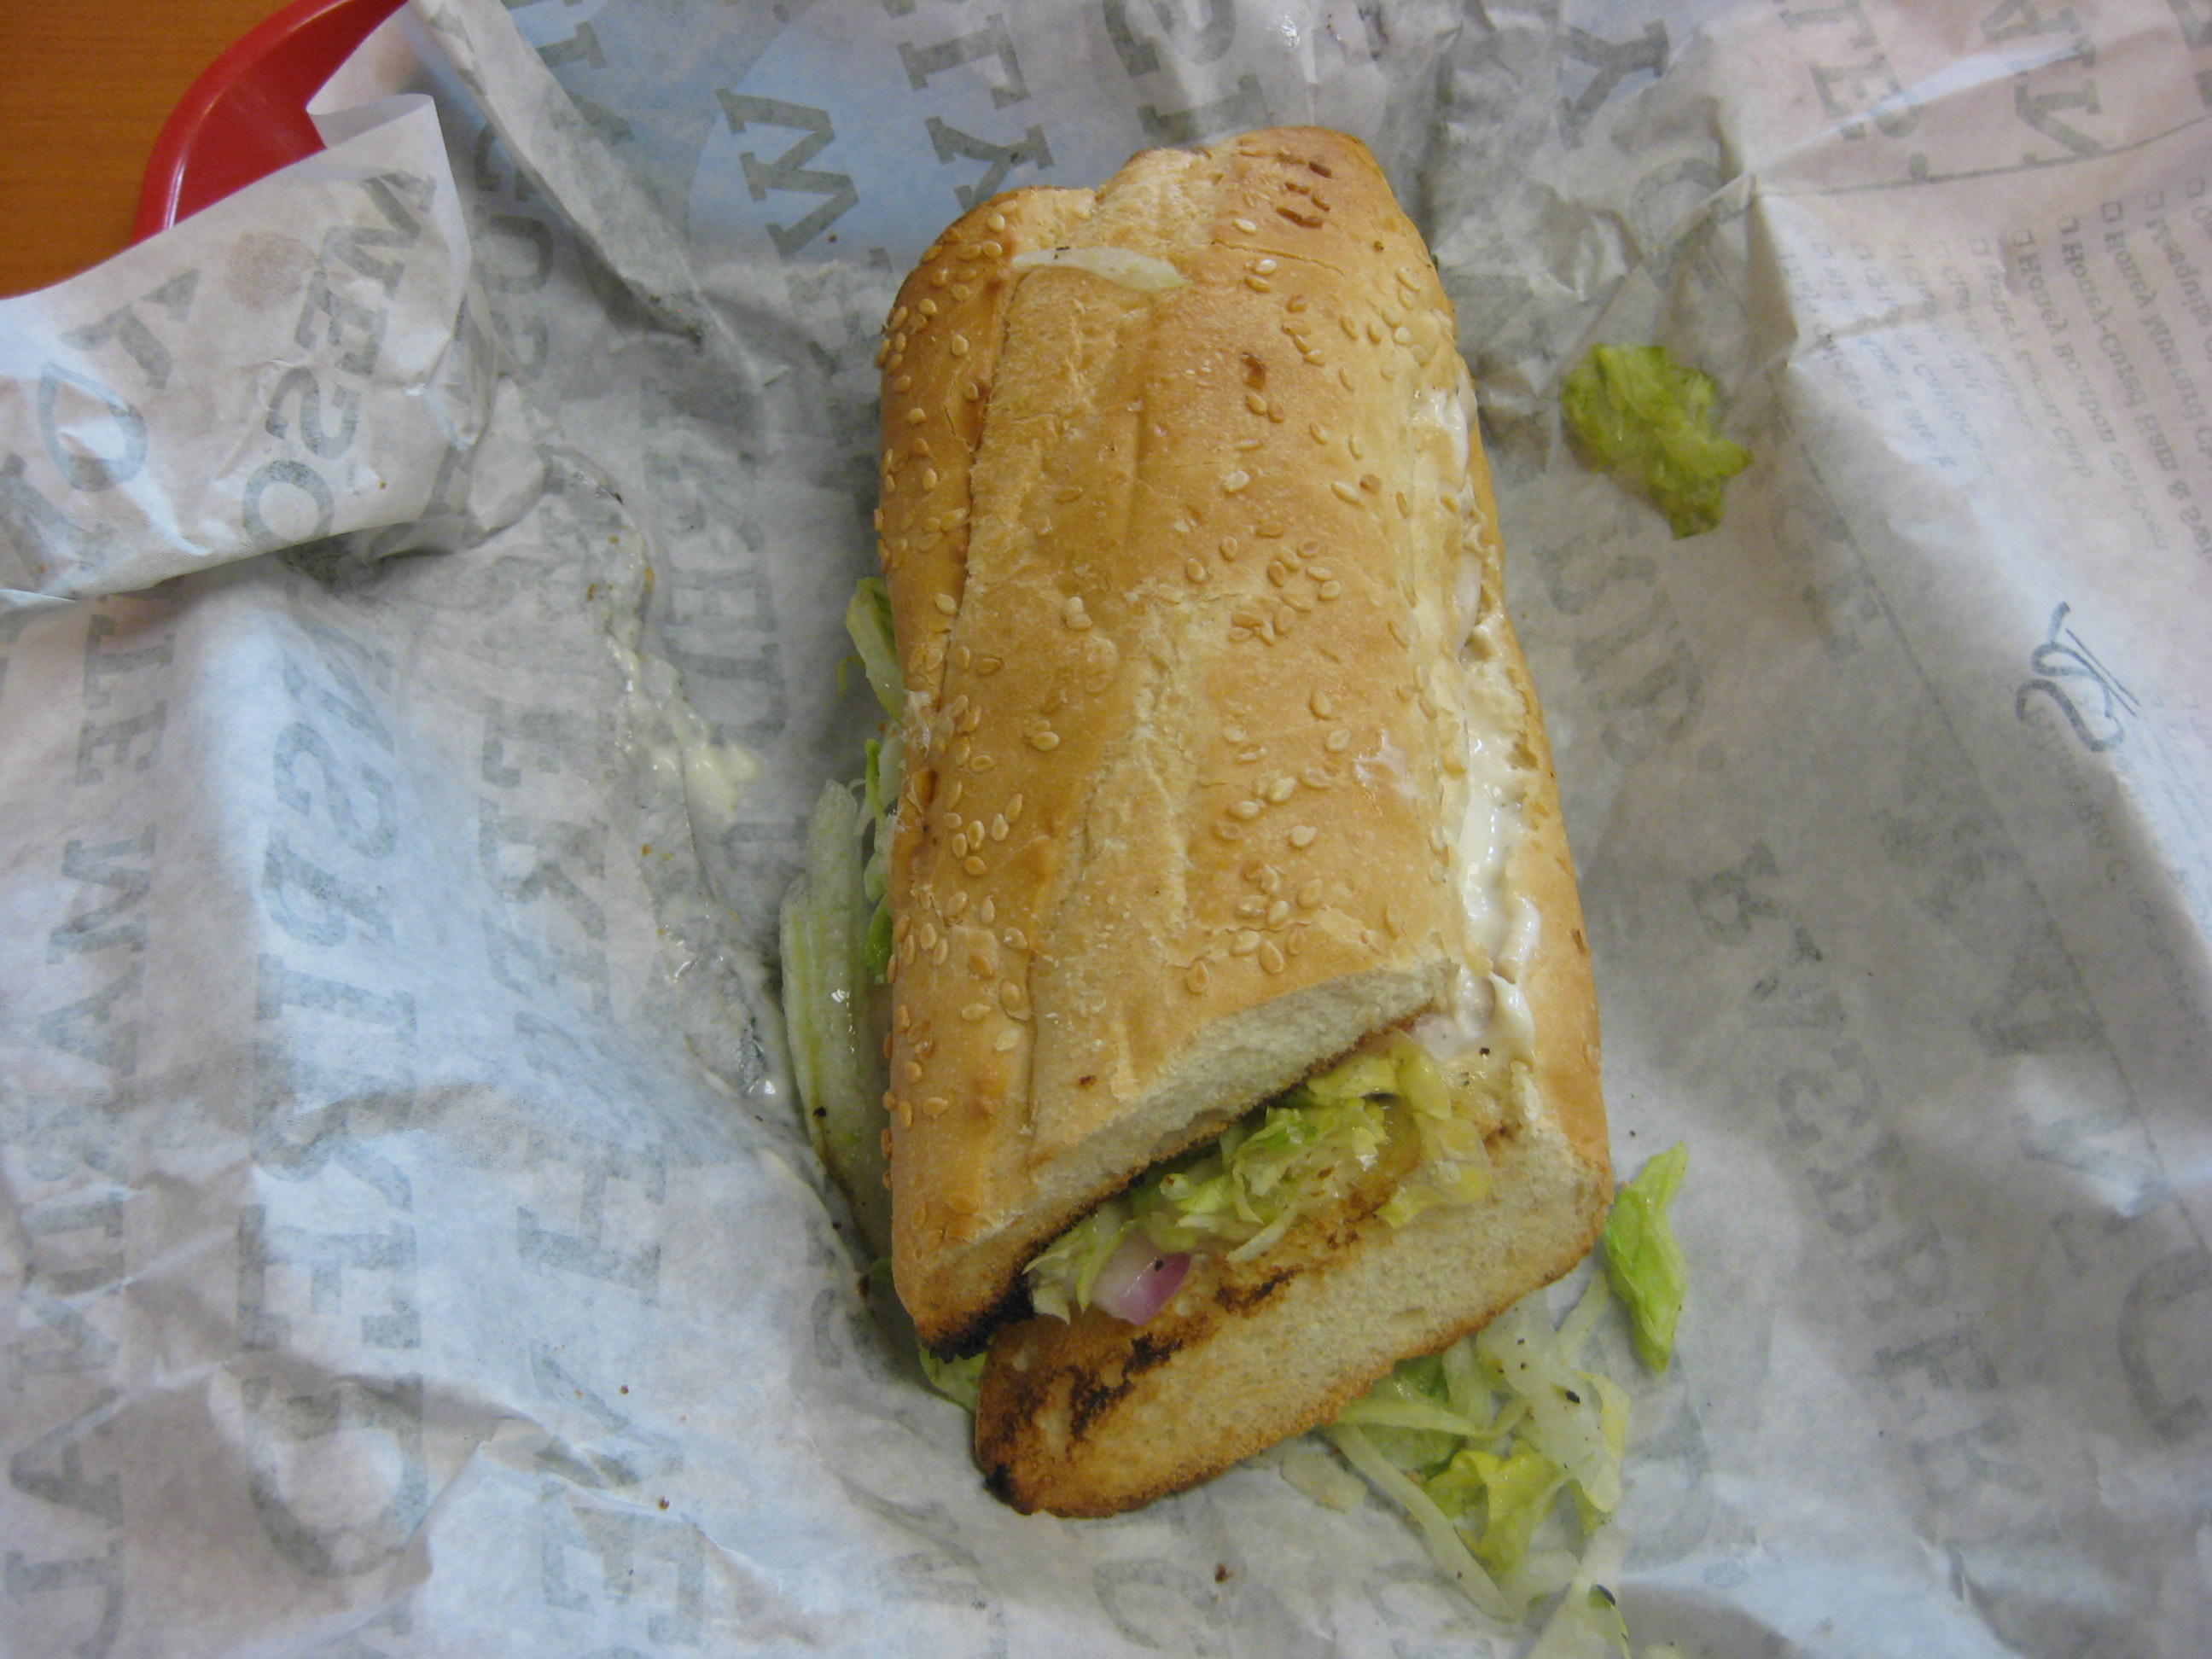sub: (787, 106, 1732, 1457)
